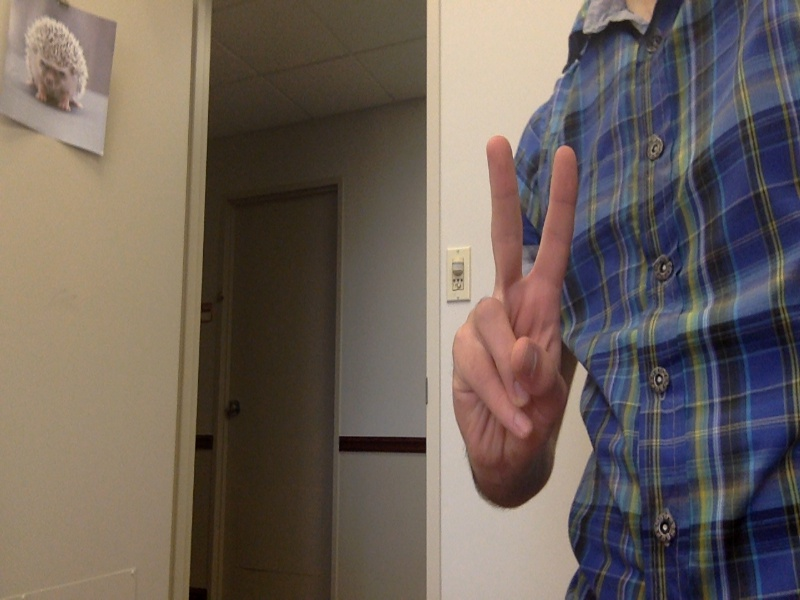2-hand: (448, 135, 582, 474)
